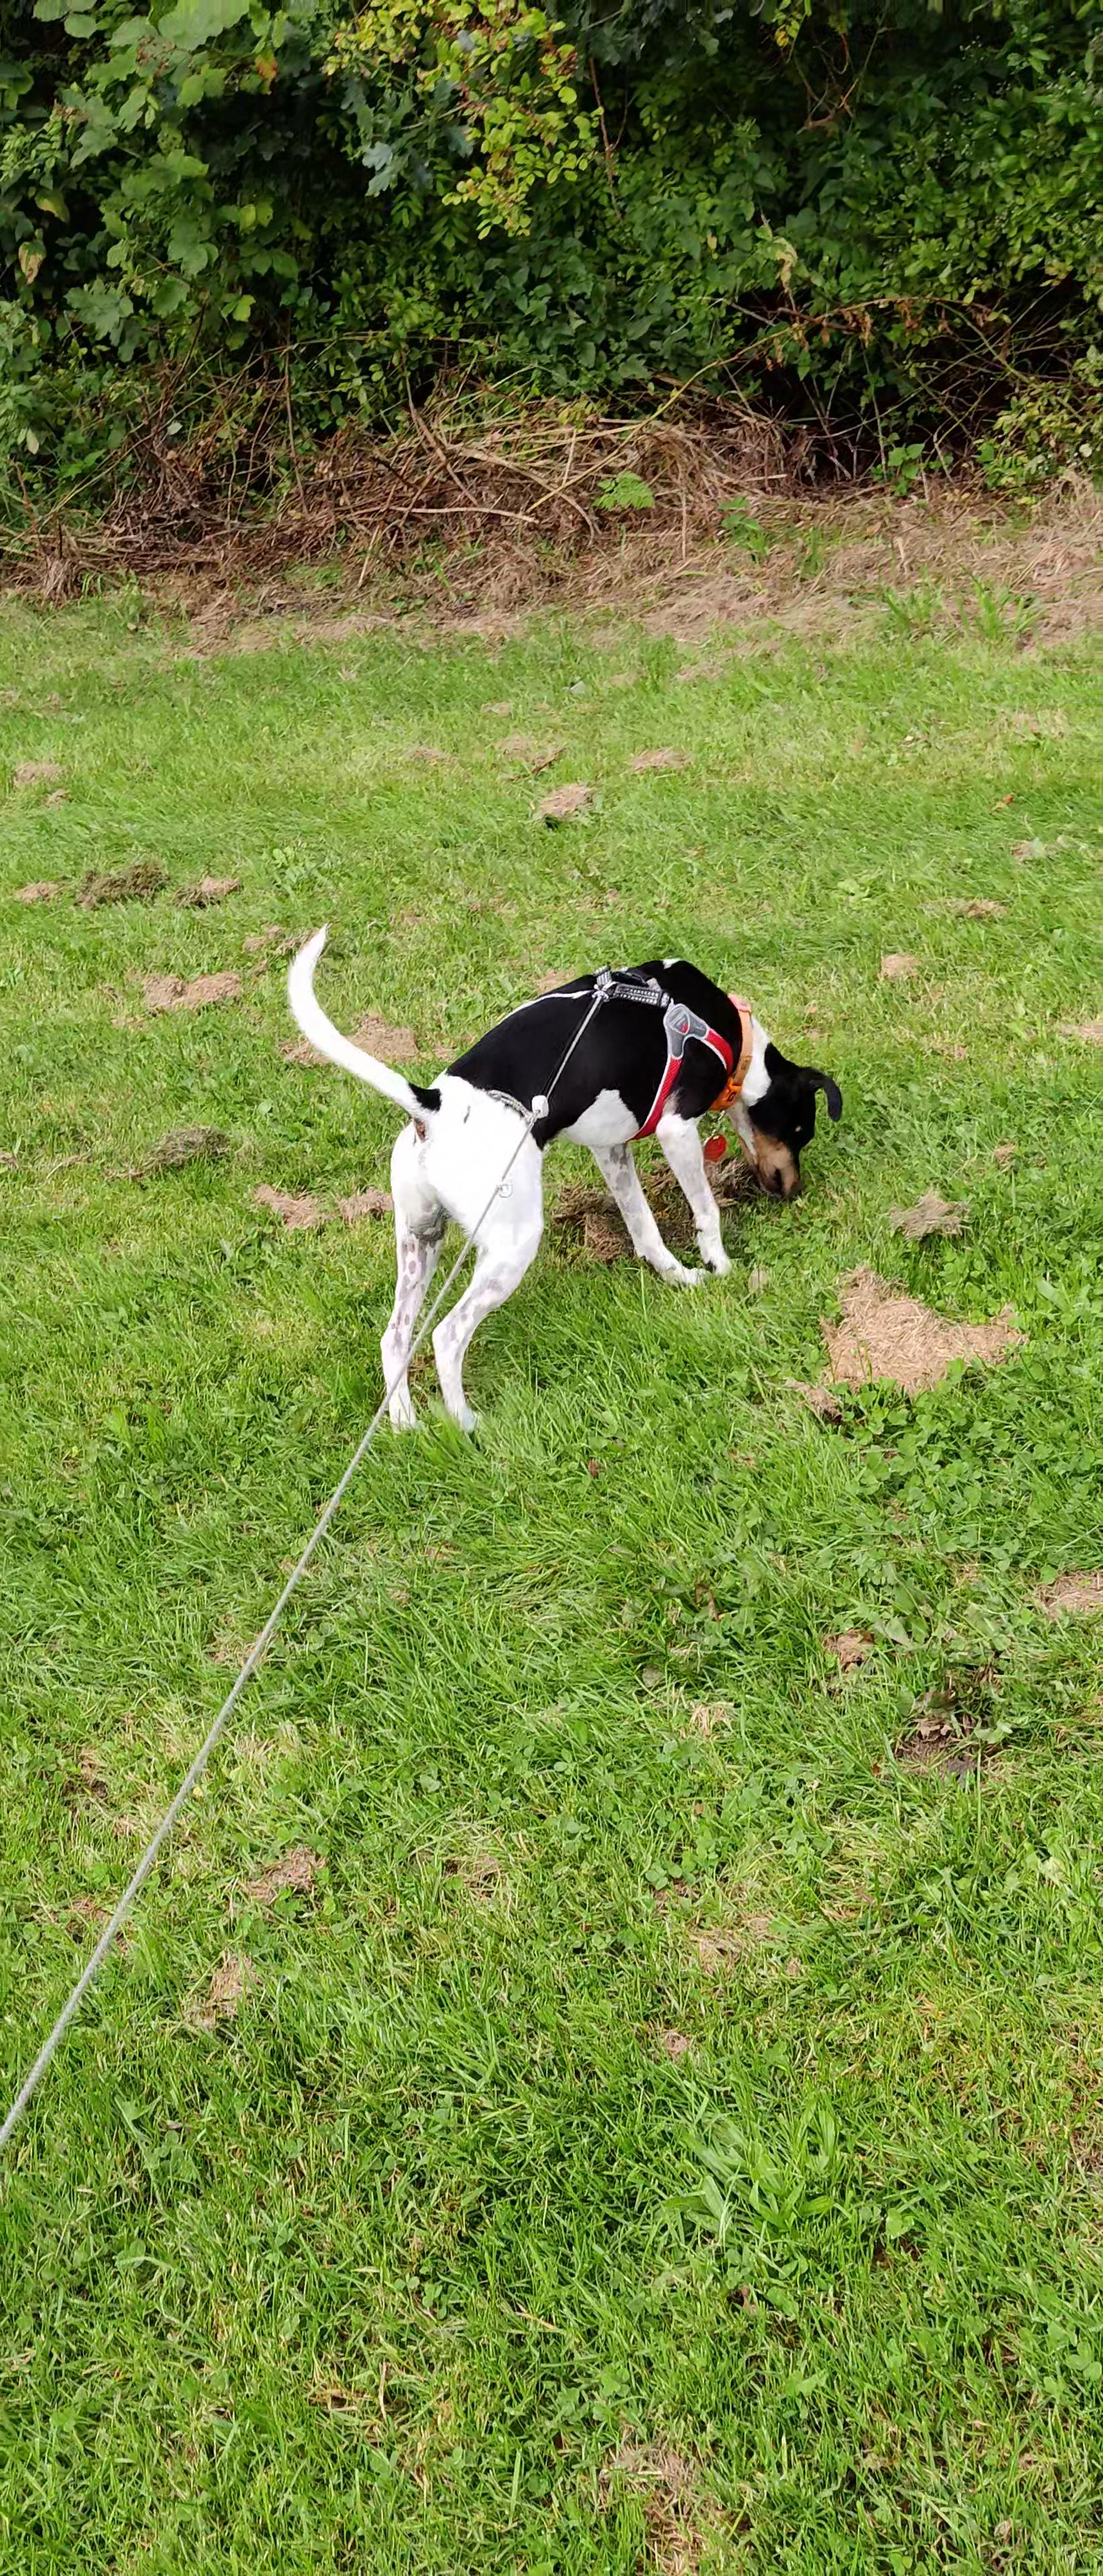Dog: (260, 907, 853, 1437)
